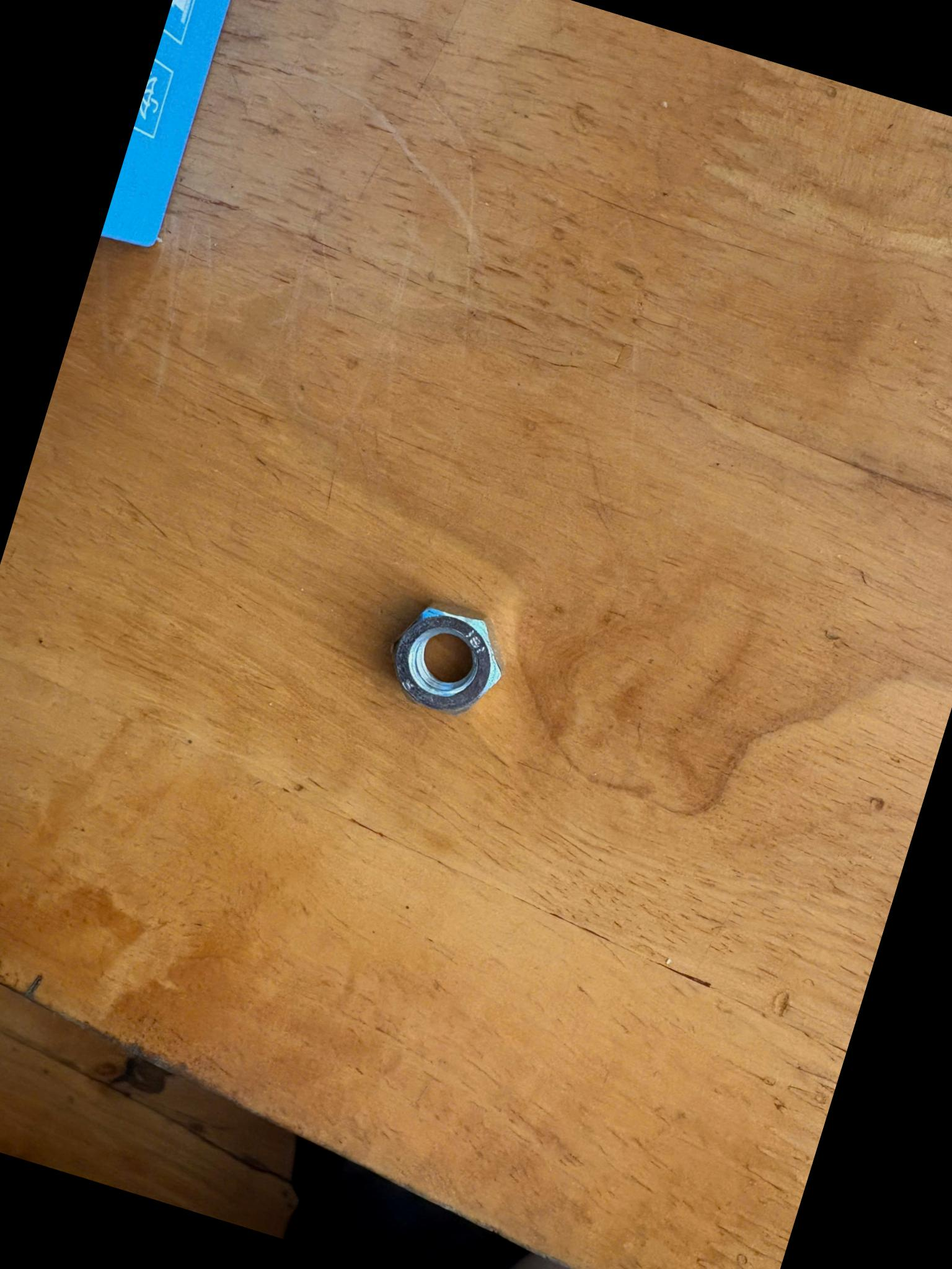nut: (375, 583, 513, 725)
